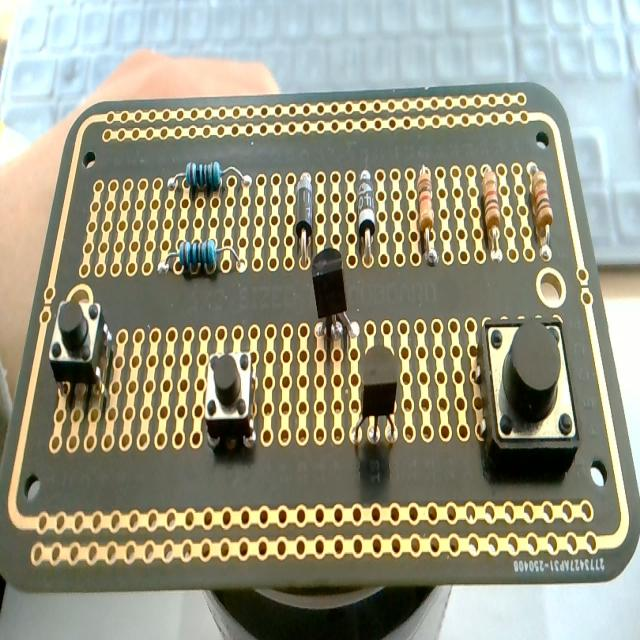diode: (357, 168, 377, 268), (294, 173, 315, 266)
resistor: (157, 237, 243, 275), (411, 163, 442, 268), (167, 159, 250, 197), (528, 164, 554, 261), (417, 165, 438, 266), (481, 165, 502, 261)
switch: (476, 315, 578, 472), (49, 296, 114, 411), (204, 348, 258, 451)
transistor: (349, 340, 407, 464), (308, 242, 359, 348)
